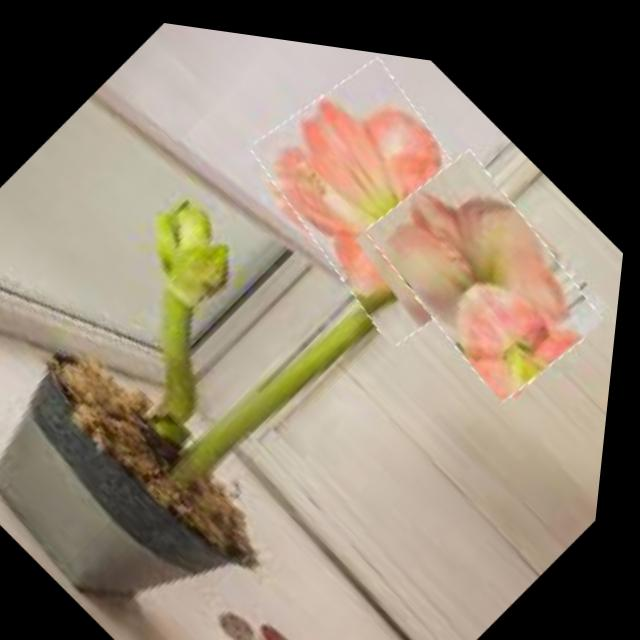Flower: (221, 27, 554, 355), (348, 122, 631, 401)
